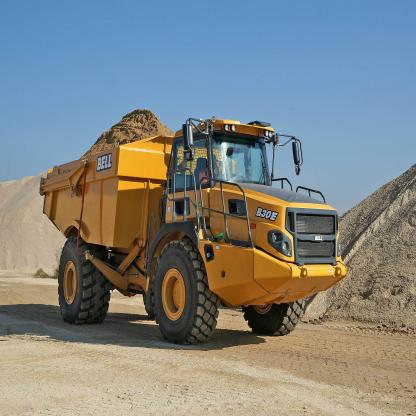dump_truck: (44, 105, 347, 354)
